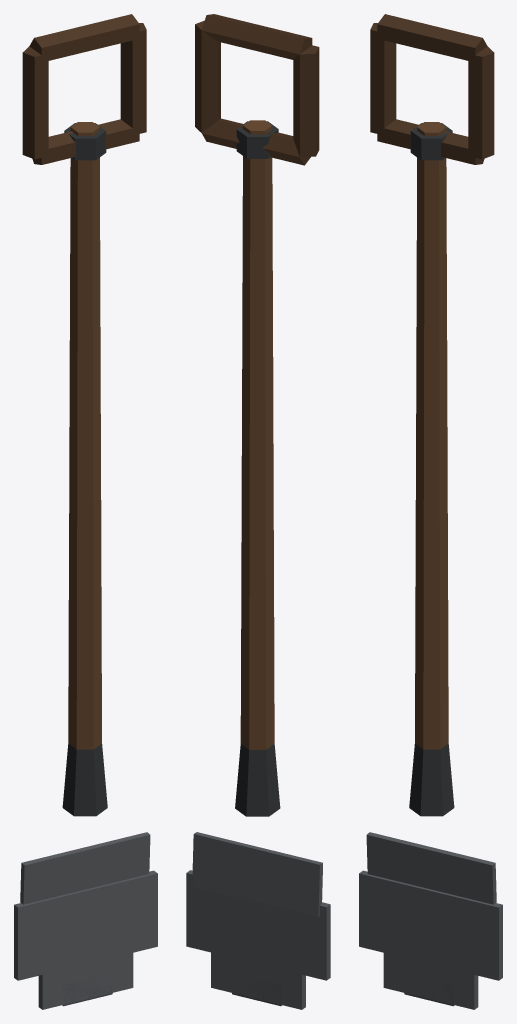
The model's file is tool_shovel.glb.
The picture shows the model from 3 angles, left to right: view 1: azimuth 30°, elevation 25°; view 2: azimuth 150°, elevation 25°; view 3: azimuth 330°, elevation 25°; orthographic projection.
Visible parts, largest first — view 1: Shovel; view 2: Shovel; view 3: Shovel.
Part boxes in pixels (left/top/right/bottom): Shovel: left=14, top=14, right=157, bottom=1009; Shovel: left=186, top=14, right=330, bottom=1009; Shovel: left=359, top=14, right=502, bottom=1009.
Size of the model in its own units: 0.2 by 1.33 by 0.056.
